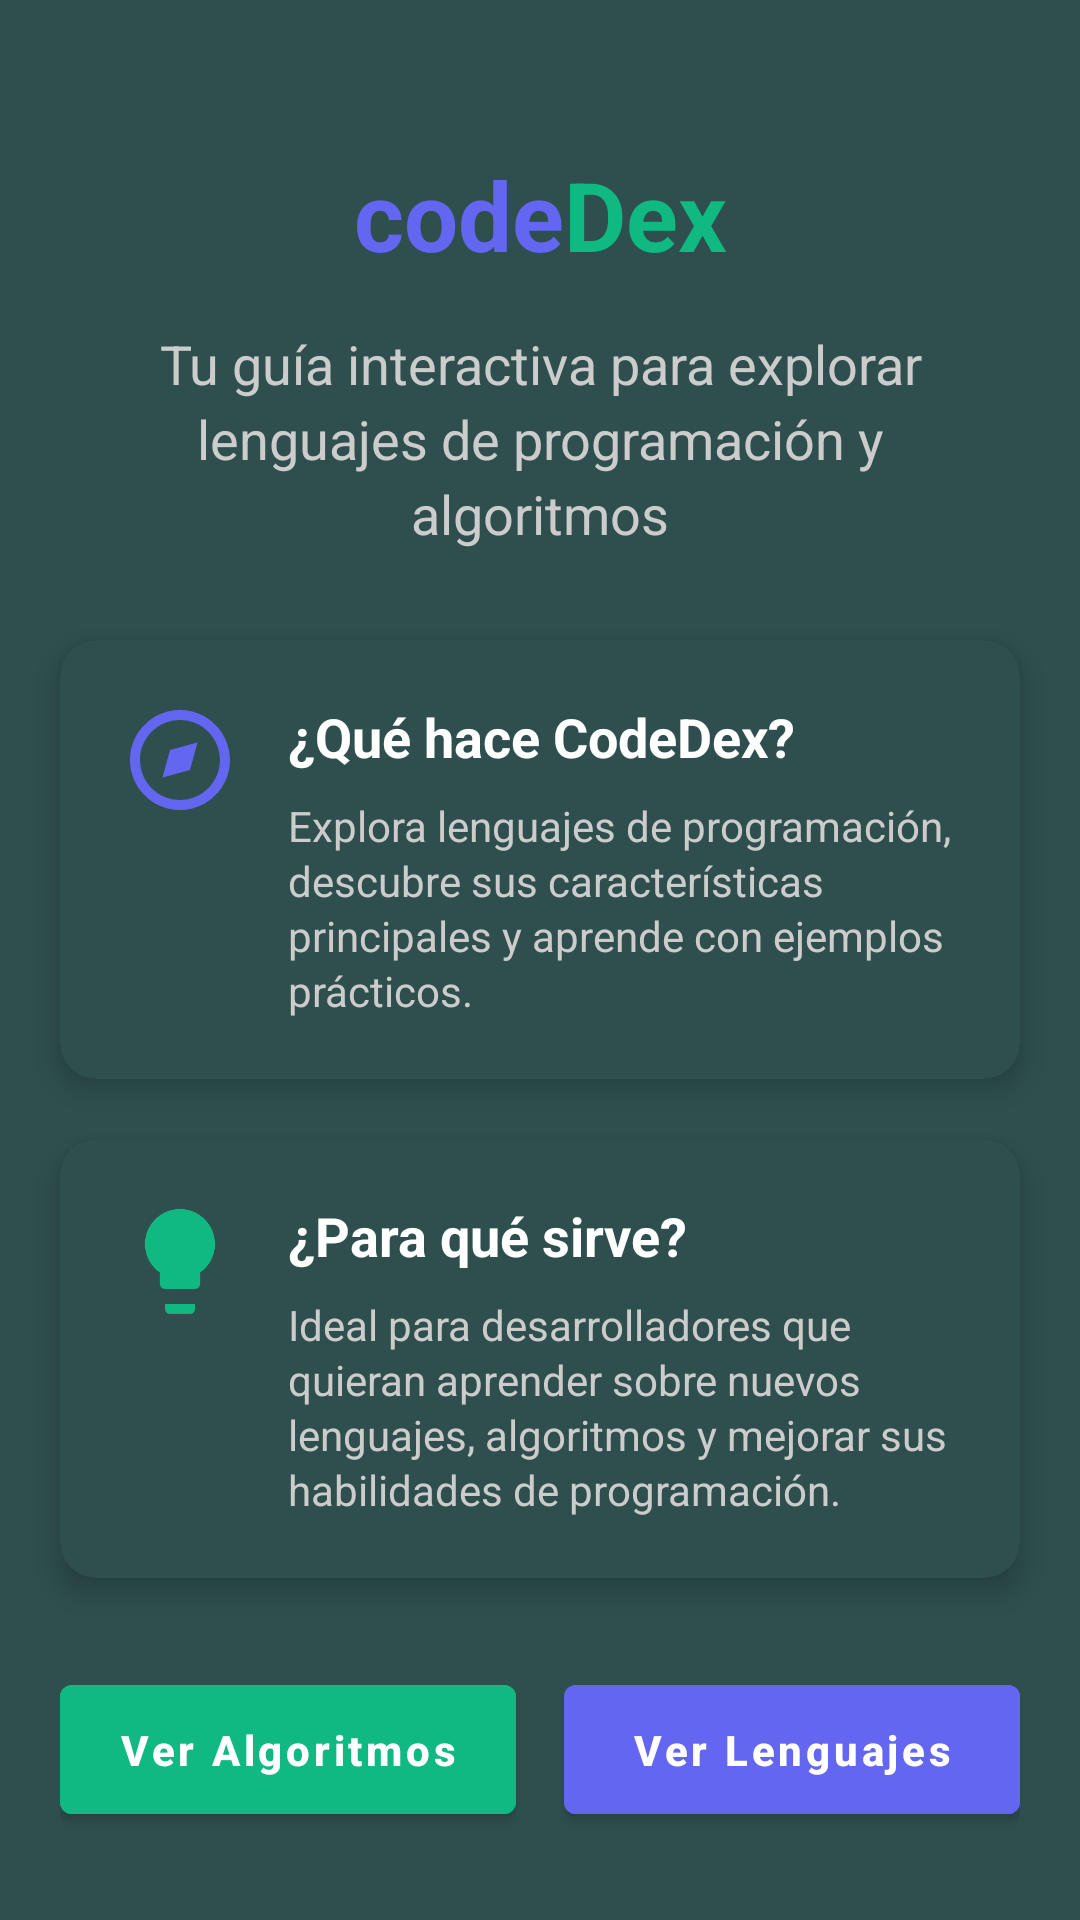

Icon bounding boxes for this 1080x1920 phone screenshot, format (x1, y1, x2, y2):
explore: (130, 710, 230, 810)
